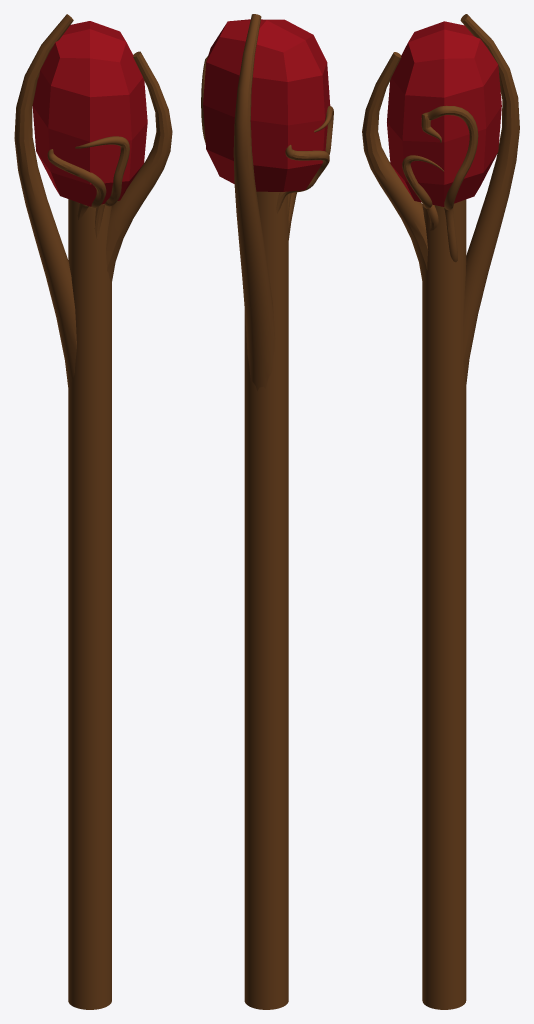
File: Magic Staff.fbx
3 renders of one model, left to right at view 1: azimuth 90°, elevation 25°; view 2: azimuth 150°, elevation 25°; view 3: azimuth 270°, elevation 25°, orthographic.
Visible parts, largest first — view 1: staff; view 2: staff; view 3: staff.
Boxes of the visible parts, bbox=[...] form: staff: bbox=[14, 14, 172, 1009]; staff: bbox=[201, 14, 333, 1009]; staff: bbox=[362, 14, 519, 1009].
Size of the model in its own units: 57.73 by 447 by 64.94.
